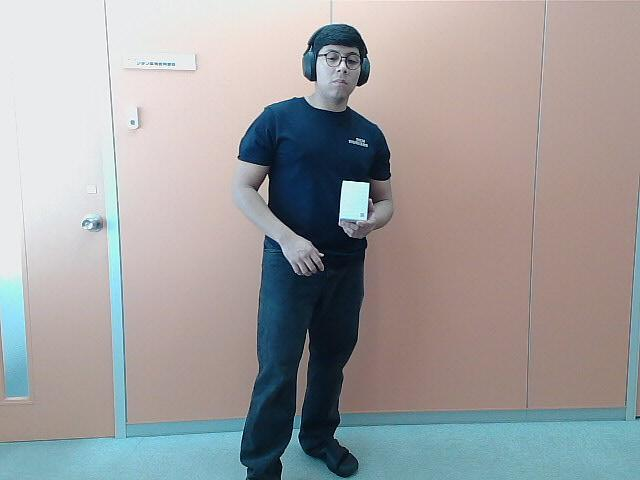Blind_box: (338, 180, 372, 222)
